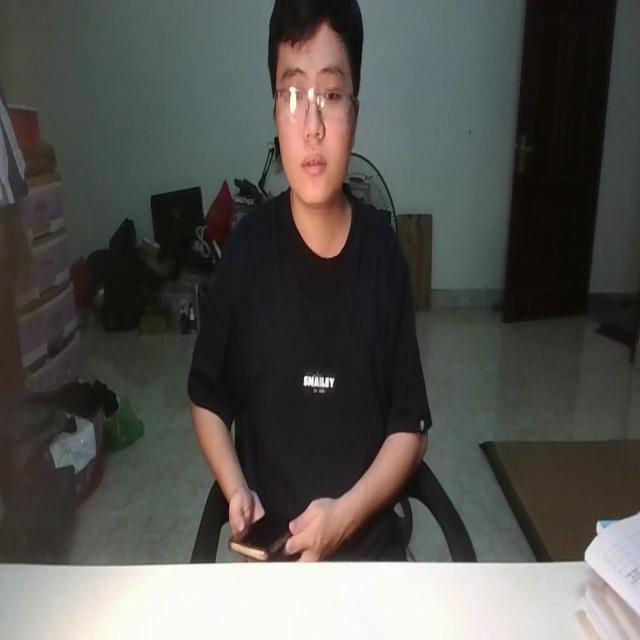phone: (223, 505, 292, 559)
student: (188, 0, 431, 618)
